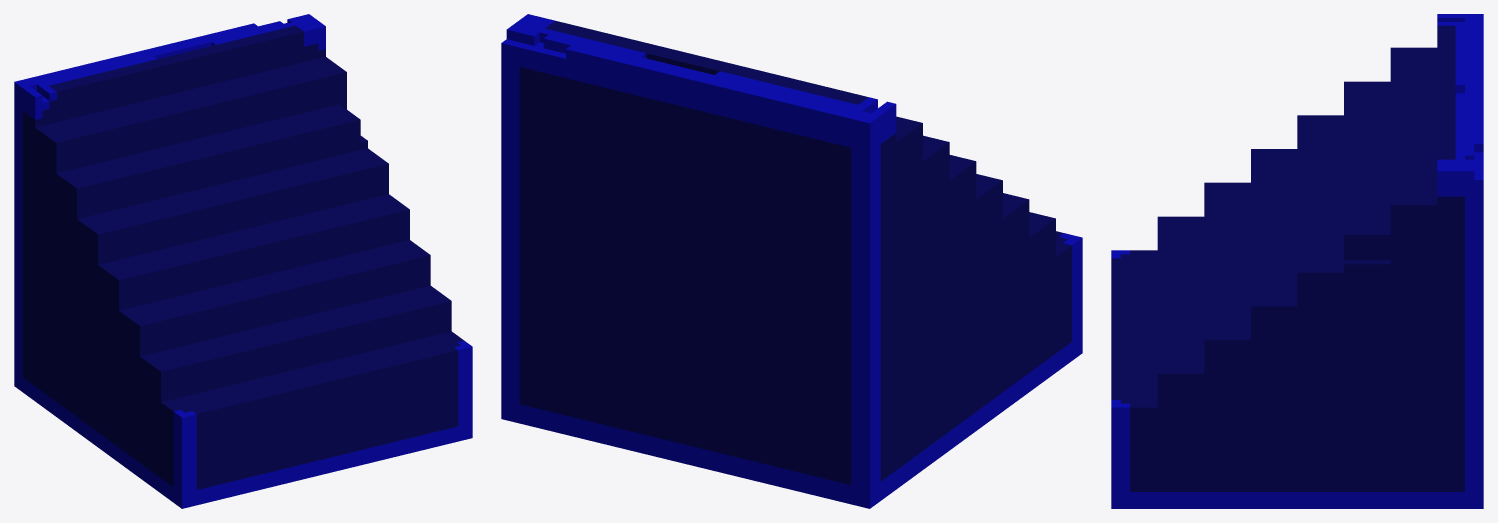
File: escalera.obj
The picture shows the model from 3 angles, left to right: view 1: azimuth 30°, elevation 25°; view 2: azimuth 150°, elevation 25°; view 3: azimuth 270°, elevation 25°; orthographic projection. The views are drawn at different scales.
Size of the model in its own units: 4 by 4 by 4.
1 material, 1 textured.
